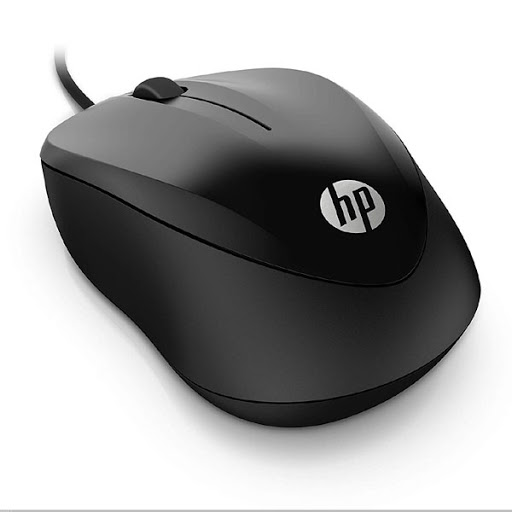hp-mouse-X1000: (26, 42, 483, 425)
